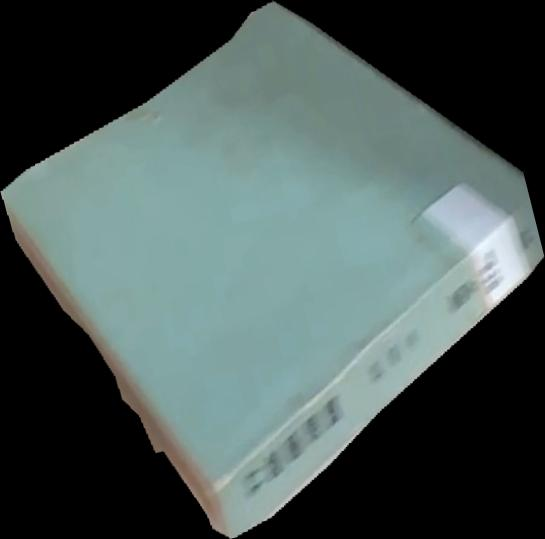flat: (1, 1, 545, 539)
